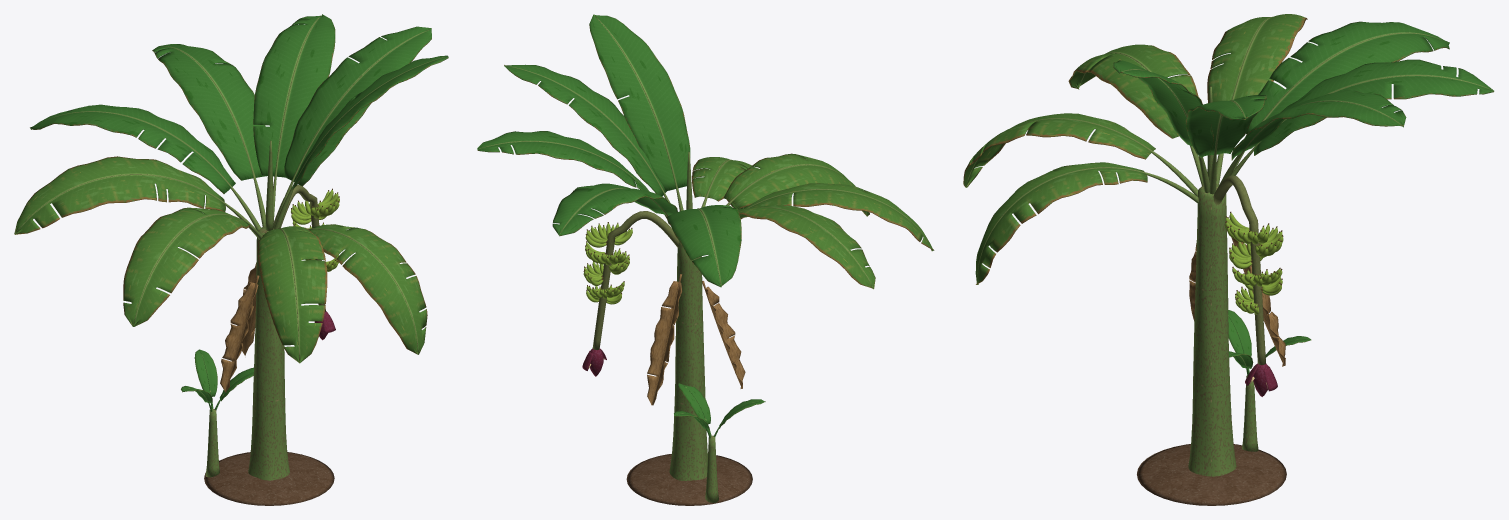
Rendered from banana-plant-with-a-bunch-of-bananas.glb.
The picture shows the model from 3 angles, left to right: view 1: azimuth 30°, elevation 25°; view 2: azimuth 150°, elevation 25°; view 3: azimuth 270°, elevation 25°; orthographic projection. The views are drawn at different scales.
Visible parts, largest first — view 1: Leaves, Leaves, older and torn, Pseudostem, Soil mound, Midribs and petioles, Dry hanging leaves, Sucker leaves, Bananas, Sucker stem, Peduncle and rachis; view 2: Leaves, Leaves, older and torn, Pseudostem, Soil mound, Dry hanging leaves, Midribs and petioles, Bananas, Peduncle and rachis, Sucker leaves, Sucker stem; view 3: Leaves, Leaves, older and torn, Pseudostem, Soil mound, Midribs and petioles, Bananas, Peduncle and rachis, Sucker leaves, Dry hanging leaves, Sucker stem.
Boxes of the visible parts, x1=… form: Leaves: x1=30, y1=14, x2=448, y2=193; Leaves, older and torn: x1=14, y1=156, x2=427, y2=363; Pseudostem: x1=248, y1=226, x2=289, y2=480; Soil mound: x1=204, y1=452, x2=334, y2=505; Midribs and petioles: x1=17, y1=16, x2=444, y2=360; Dry hanging leaves: x1=220, y1=262, x2=259, y2=392; Sucker leaves: x1=181, y1=349, x2=253, y2=411; Bananas: x1=291, y1=190, x2=339, y2=271; Sucker stem: x1=205, y1=409, x2=219, y2=477; Peduncle and rachis: x1=273, y1=185, x2=325, y2=311; Leaves: x1=477, y1=14, x2=741, y2=287; Leaves, older and torn: x1=692, y1=153, x2=934, y2=289; Pseudostem: x1=669, y1=242, x2=707, y2=480; Soil mound: x1=626, y1=454, x2=752, y2=505; Dry hanging leaves: x1=647, y1=274, x2=745, y2=405; Midribs and petioles: x1=480, y1=16, x2=931, y2=285; Bananas: x1=583, y1=223, x2=632, y2=304; Peduncle and rachis: x1=592, y1=211, x2=679, y2=349; Sucker leaves: x1=674, y1=383, x2=765, y2=438; Sucker stem: x1=705, y1=435, x2=718, y2=503; Leaves: x1=1113, y1=21, x2=1494, y2=160; Leaves, older and torn: x1=963, y1=14, x2=1307, y2=284; Pseudostem: x1=1188, y1=184, x2=1236, y2=476; Soil mound: x1=1137, y1=444, x2=1286, y2=505; Midribs and petioles: x1=976, y1=16, x2=1490, y2=281; Bananas: x1=1225, y1=213, x2=1283, y2=314; Peduncle and rachis: x1=1213, y1=175, x2=1265, y2=364; Sucker leaves: x1=1228, y1=310, x2=1311, y2=375; Dry hanging leaves: x1=1189, y1=237, x2=1285, y2=366; Sucker stem: x1=1242, y1=375, x2=1258, y2=451.
Size of the model in its own units: 3.33 by 3.32 by 3.33.
Materials: 10 (10 with a texture image).
